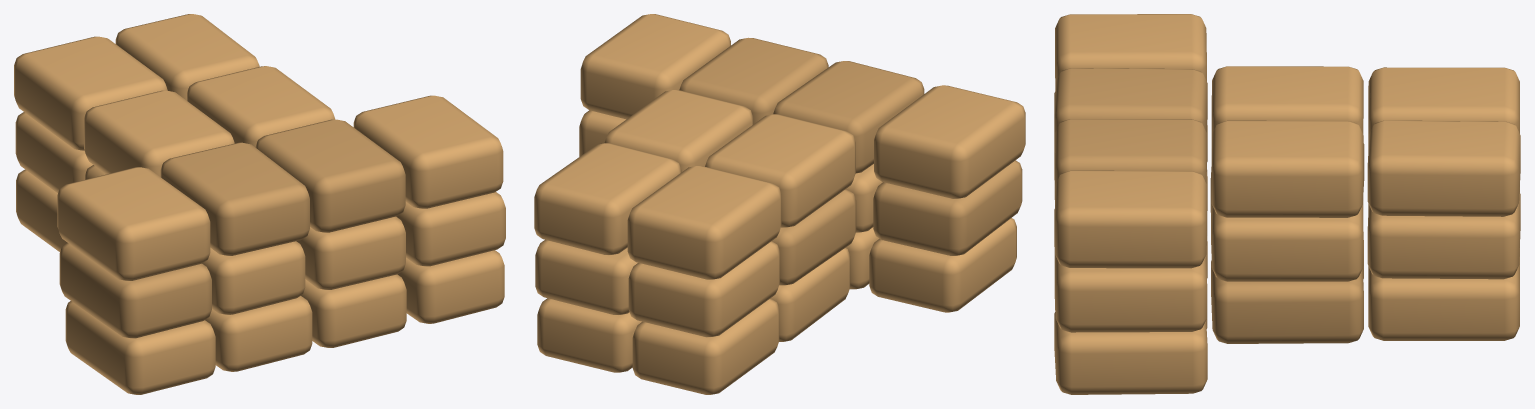
File: NJD-11.glb
3 renders of one model, left to right at view 1: azimuth 30°, elevation 25°; view 2: azimuth 150°, elevation 25°; view 3: azimuth 270°, elevation 25°, orthographic. The views are drawn at different scales.
Parts seen in each view (by area): view 1: handmade block.016, handmade block.017, handmade block.023, handmade block.020, handmade block.019, handmade block.008, handmade block.018, handmade block, handmade block.021, handmade block.022, handmade block.015, handmade block.012 (+6 smaller); view 2: handmade block.019, handmade block.016, handmade block.022, handmade block.023, handmade block.018, handmade block.011, handmade block.008, handmade block.003, handmade block, handmade block.017, handmade block.021, handmade block.020 (+7 smaller); view 3: handmade block.023, handmade block.021, handmade block.022, handmade block.013, handmade block.015, handmade block.014, handmade block.007, handmade block.005, handmade block.006, handmade block.018, handmade block.016, handmade block.019 (+2 smaller).
Boxes of the visible parts, left/top/right/bottom form: handmade block.016: left=57, top=167, right=210, bottom=280; handmade block.017: left=160, top=142, right=309, bottom=255; handmade block.023: left=353, top=95, right=503, bottom=208; handmade block.020: left=255, top=119, right=405, bottom=232; handmade block.019: left=14, top=36, right=167, bottom=150; handmade block.008: left=59, top=242, right=211, bottom=338; handmade block.018: left=84, top=90, right=234, bottom=176; handmade block: left=65, top=301, right=215, bottom=394; handmade block.021: left=187, top=66, right=335, bottom=147; handmade block.022: left=115, top=14, right=259, bottom=100; handmade block.015: left=396, top=192, right=505, bottom=266; handmade block.012: left=296, top=216, right=405, bottom=289; handmade block.019: left=627, top=166, right=781, bottom=279; handmade block.016: left=874, top=85, right=1025, bottom=198; handmade block.022: left=534, top=143, right=681, bottom=255; handmade block.023: left=580, top=14, right=730, bottom=119; handmade block.018: left=705, top=114, right=855, bottom=227; handmade block.011: left=628, top=241, right=779, bottom=337; handmade block.008: left=873, top=160, right=1022, bottom=255; handmade block.003: left=632, top=298, right=779, bottom=394; handmade block: left=869, top=218, right=1016, bottom=312; handmade block.017: left=773, top=61, right=924, bottom=173; handmade block.021: left=604, top=90, right=753, bottom=171; handmade block.020: left=679, top=37, right=828, bottom=124; handmade block.023: left=1055, top=170, right=1206, bottom=268; handmade block.021: left=1211, top=120, right=1363, bottom=217; handmade block.022: left=1367, top=120, right=1520, bottom=216; handmade block.013: left=1211, top=201, right=1363, bottom=281; handmade block.015: left=1054, top=249, right=1207, bottom=332; handmade block.014: left=1367, top=192, right=1520, bottom=279; handmade block.007: left=1054, top=312, right=1207, bottom=394; handmade block.005: left=1211, top=260, right=1363, bottom=343; handmade block.006: left=1368, top=257, right=1519, bottom=340; handmade block.018: left=1211, top=66, right=1363, bottom=147; handmade block.016: left=1055, top=14, right=1206, bottom=94; handmade block.019: left=1368, top=67, right=1519, bottom=148.
Bounding box in the file's own units: 1.94 × 0.815 × 1.85.
